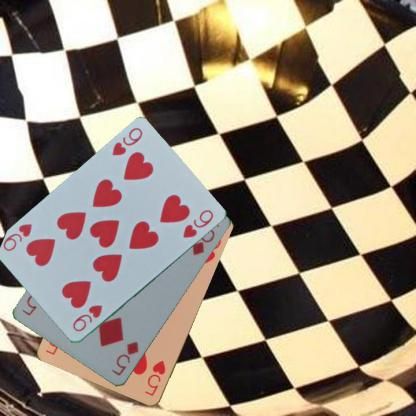5d: (108, 338, 140, 378)
5h: (142, 358, 167, 398)
9h: (109, 125, 144, 158), (69, 302, 104, 334)
